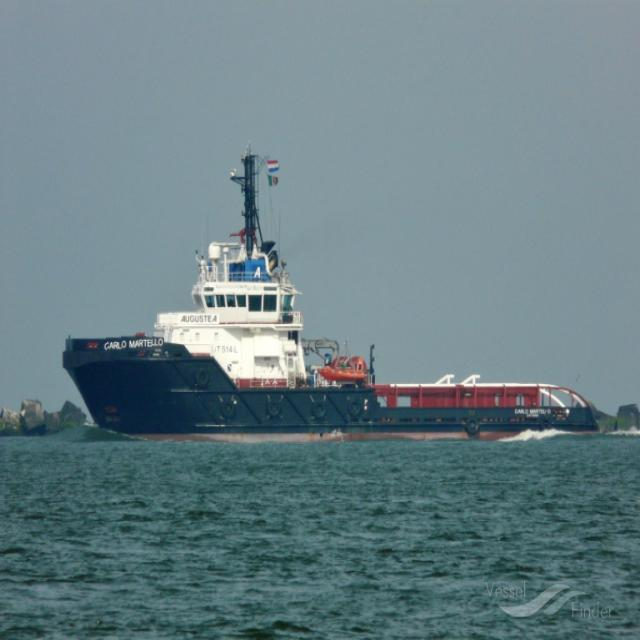OCR: (98, 332, 164, 357)
